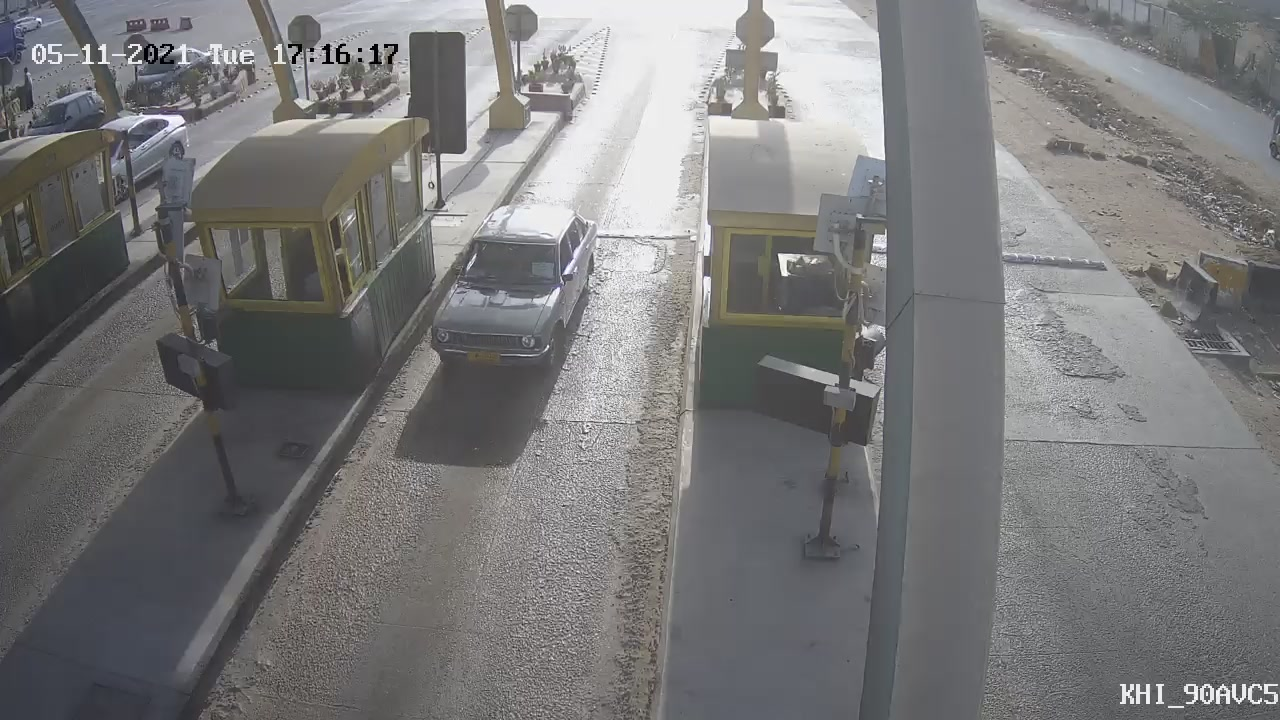F1: (411, 182, 608, 395)
